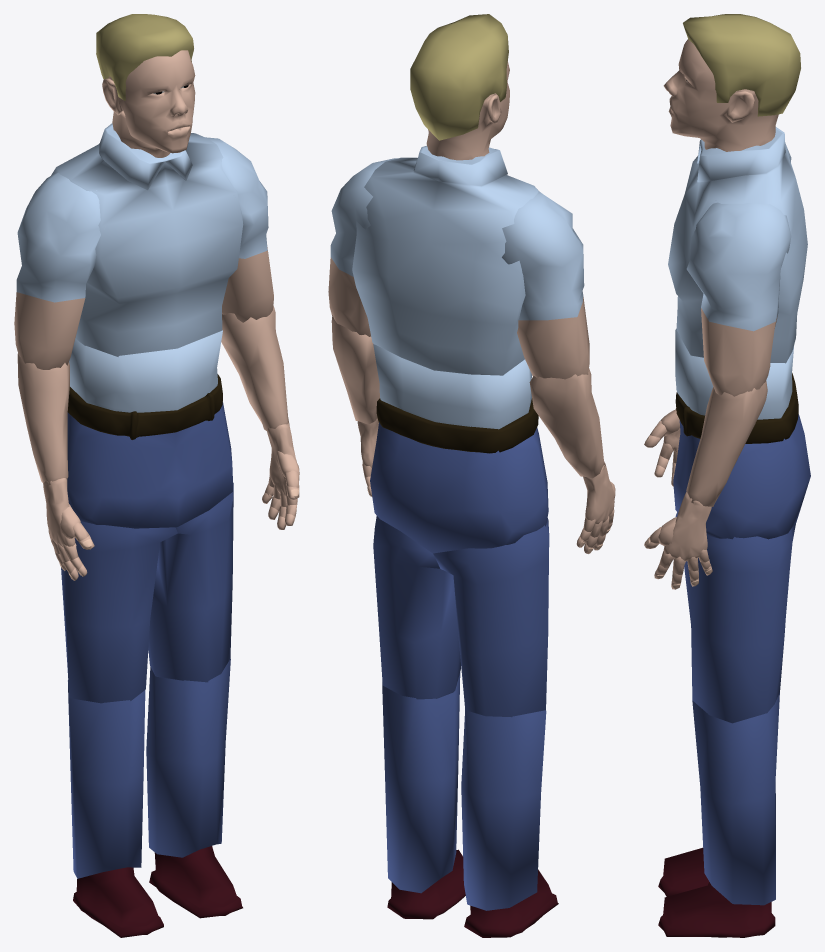
The model's file is humanoide.obj.
The picture shows the model from 3 angles, left to right: view 1: azimuth 30°, elevation 25°; view 2: azimuth 150°, elevation 25°; view 3: azimuth 270°, elevation 25°; orthographic projection.
Parts seen in each view (by area): view 1: chest, hip, R_thigh, L_leg, R_arm, L_thigh, R_leg, head, belly, L_arm, L_forearm, R_forearm (+4 smaller); view 2: chest, hip, R_thigh, R_leg, L_leg, L_thigh, head, R_arm, belly, R_forearm, L_arm, L_forearm (+4 smaller); view 3: L_thigh, L_arm, head, L_leg, chest, hip, L_forearm, L_foot, belly, L_hand, R_foot.
Boxes of the visible parts, bbox=[...] form: chest: bbox=[51, 123, 243, 356]; hip: bbox=[67, 374, 232, 528]; R_thigh: bbox=[61, 521, 177, 703]; L_leg: bbox=[146, 659, 230, 857]; R_arm: bbox=[14, 172, 105, 369]; L_thigh: bbox=[148, 482, 233, 682]; R_leg: bbox=[68, 680, 145, 878]; head: bbox=[96, 14, 195, 157]; belly: bbox=[69, 330, 222, 412]; L_arm: bbox=[205, 137, 273, 322]; L_forearm: bbox=[221, 305, 289, 431]; R_forearm: bbox=[17, 353, 69, 484]; chest: bbox=[352, 145, 538, 375]; hip: bbox=[370, 398, 548, 553]; R_thigh: bbox=[433, 518, 549, 717]; R_leg: bbox=[461, 709, 546, 910]; L_leg: bbox=[382, 672, 460, 893]; L_thigh: bbox=[373, 516, 460, 699]; head: bbox=[410, 14, 509, 160]; R_arm: bbox=[502, 191, 589, 379]; belly: bbox=[373, 344, 532, 429]; R_forearm: bbox=[529, 368, 605, 478]; L_arm: bbox=[328, 158, 397, 336]; L_forearm: bbox=[331, 315, 379, 424]; L_thigh: bbox=[675, 512, 795, 723]; L_arm: bbox=[686, 202, 791, 396]; head: bbox=[663, 14, 800, 151]; L_leg: bbox=[692, 692, 779, 905]; chest: bbox=[668, 127, 807, 363]; hip: bbox=[673, 373, 810, 539]; L_forearm: bbox=[686, 380, 767, 506]; L_foot: bbox=[658, 882, 775, 937]; belly: bbox=[675, 328, 794, 419]; L_hand: bbox=[663, 492, 711, 561]; R_foot: bbox=[658, 847, 709, 896].
Size of the model in its own units: 5.1 by 16.92 by 2.89.
